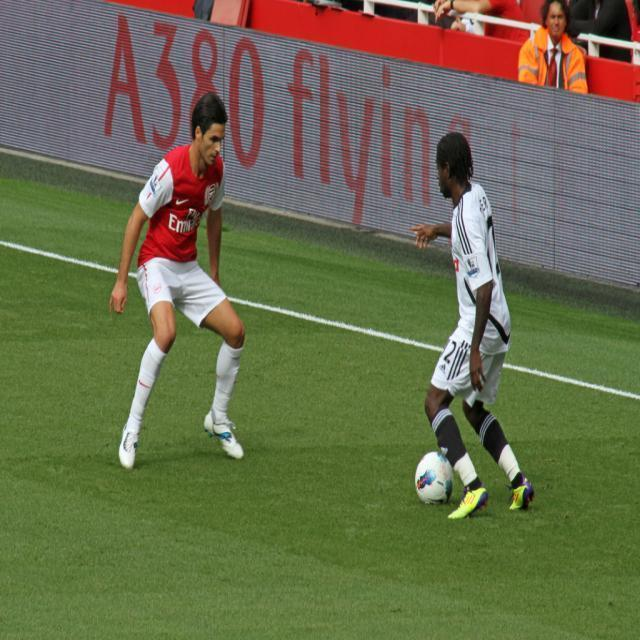ball: (415, 451, 454, 507), (416, 451, 455, 504)
